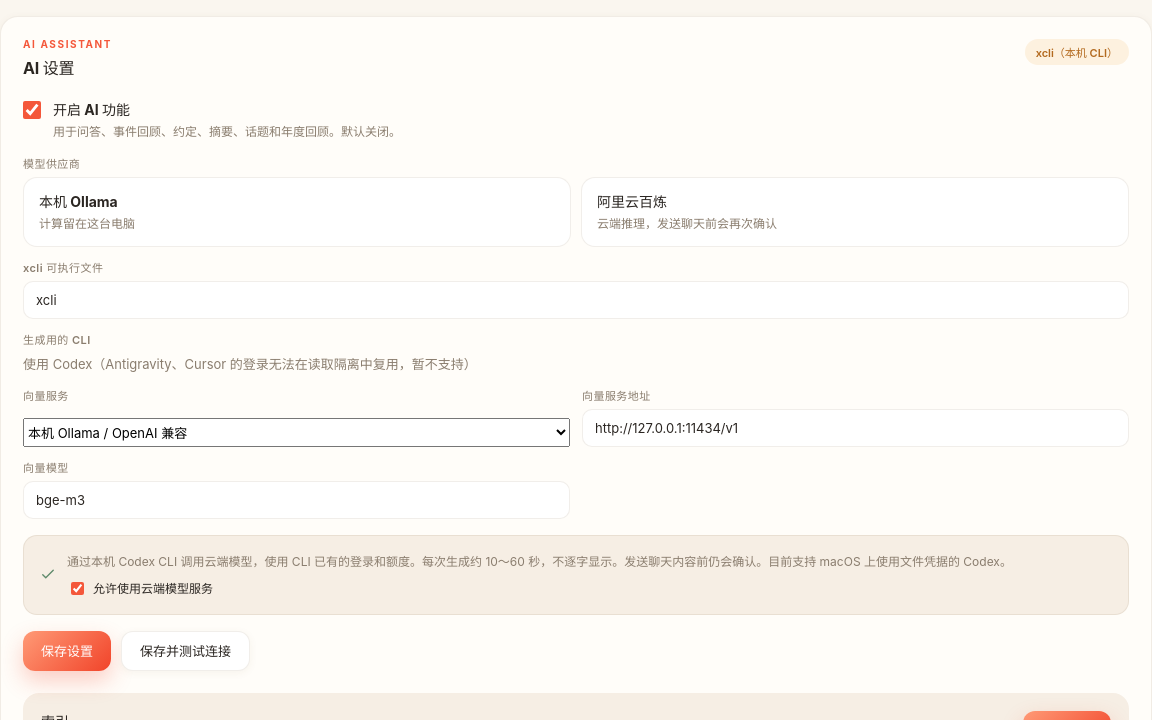
Test: AiSettings › saves Codex for a legacy CLI selection and shows the file login guidance
The width and height of the screenshot is (1152, 720).
expect the text "使用 Codex（Antigravity、Cursor 的登录无法在读取隔离中复用，暂不支持）" is shown: met, box x1=23 y1=356 x2=477 y2=372
Click the button "保存并测试连接".
click(186, 651)  # box x1=121 y1=631 x2=250 y2=671
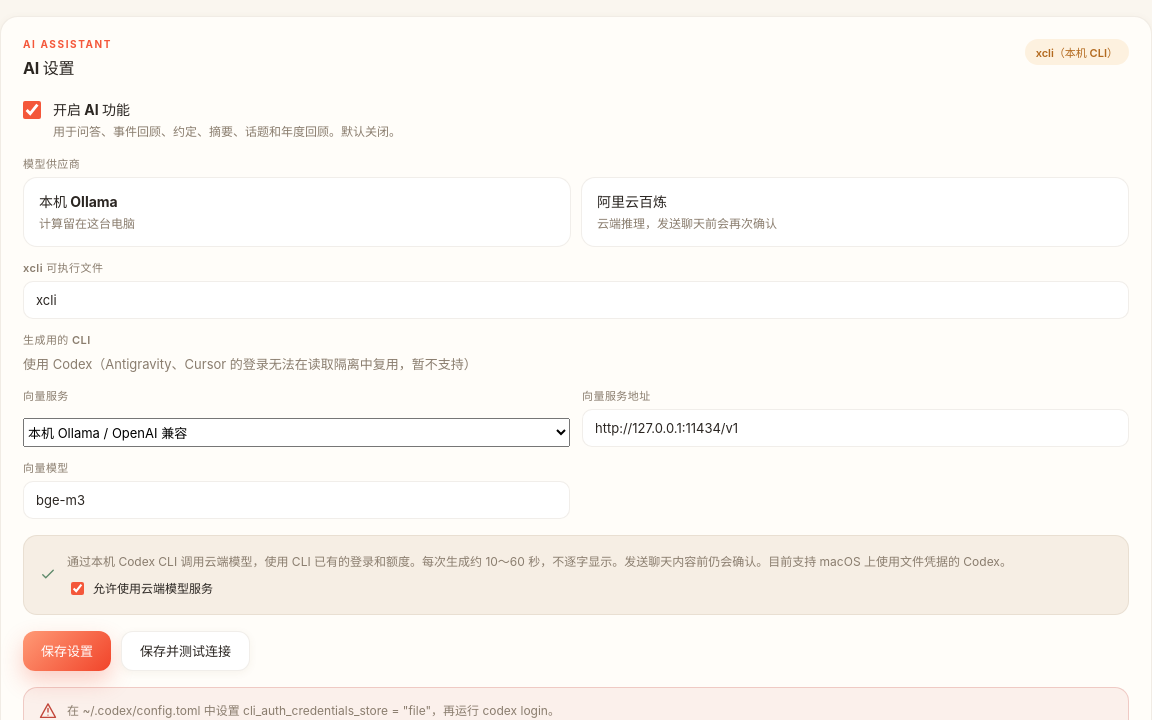
expect the text "cli_auth_credentials_store = \"file\"" shows "codex login": met, box x1=67 y1=703 x2=560 y2=718
